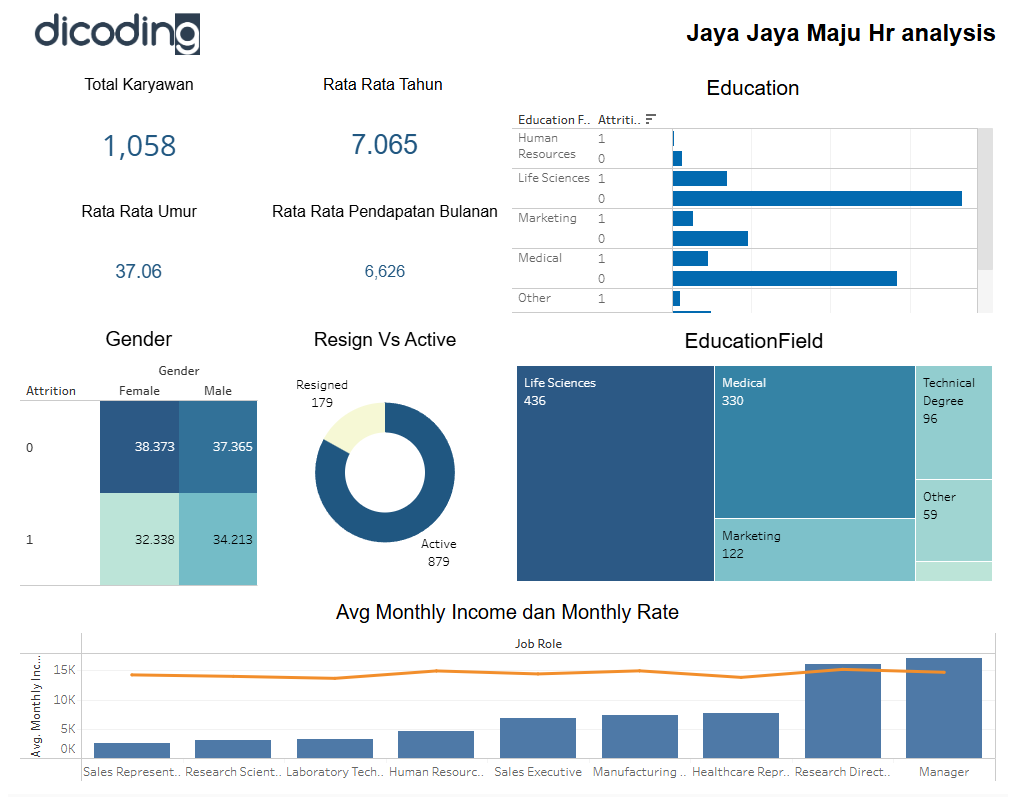

This screenshot's page, from the dashboard's own definition file:
{"tool":"tableau","page":{"name":"Dashboard 1","canvas":[1000,800],"ordinal":0},"visuals":[{"type":"text","box":[500,8,492,62]},{"type":"image","param":"Image/dicoding.png","box":[26,19,167,42]},{"type":"worksheet","title":"Total Karyawan","mark":"Automatic","box":[8,70,246,126.5]},{"type":"worksheet","title":"Rata Rata Di perusahaan","mark":"Automatic","box":[254,70,246,126.5]},{"type":"worksheet","title":"Education","mark":"Bar","rows":["EducationField","Attrition"],"cols":["Education","Education"],"box":[500,70,492,253]},{"type":"worksheet","title":"Rata Rata Umur","mark":"Automatic","box":[8,196.5,246,126.5]},{"type":"worksheet","title":"Rata Rata Pendapatan Bulanan","mark":"Automatic","box":[254,196.5,246,126.5]},{"type":"worksheet","title":"Gender","mark":"Square","rows":["Attrition"],"cols":["Gender"],"box":[8,323,246,272.6]},{"type":"worksheet","title":"Resign vs Active","mark":"Pie","cols":["Calculation_995577000184705024","Calculation_995577000184705024"],"box":[254,323,246,272.6]},{"type":"worksheet","title":"EducationField","mark":"Automatic","box":[500,323,492,272.6]},{"type":"worksheet","title":"Avg Monthly Income dan Monthly Rate","mark":"Automatic","rows":["MonthlyIncome","MonthlyRate"],"cols":["JobRole"],"box":[8,595.6,984,196.4]}]}

Visuals, with their boxes in screenshot pixels (x1, y1, x2, y2), scaled from the page's 1000x800 canvas onto the 1009x797 screenshot:
text: 504 8 1001 70
image: 26 19 195 61
"Total Karyawan" worksheet: 8 70 256 196
"Rata Rata Di perusahaan" worksheet: 256 70 504 196
"Education" worksheet (Bar marks): 504 70 1001 322
"Rata Rata Umur" worksheet: 8 196 256 322
"Rata Rata Pendapatan Bulanan" worksheet: 256 196 504 322
"Gender" worksheet (Square marks): 8 322 256 593
"Resign vs Active" worksheet (Pie marks): 256 322 504 593
"EducationField" worksheet: 504 322 1001 593
"Avg Monthly Income dan Monthly Rate" worksheet: 8 593 1001 789
